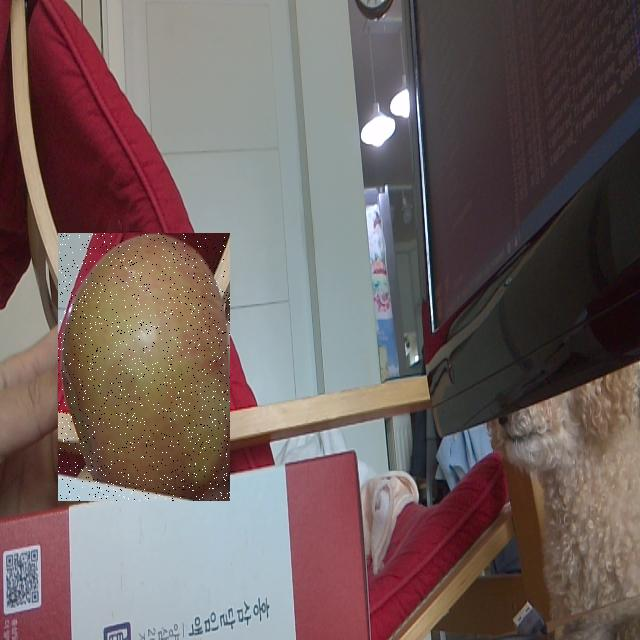apple: (58, 233, 230, 501)
